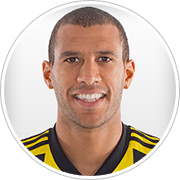smile: (72, 88, 109, 107)
